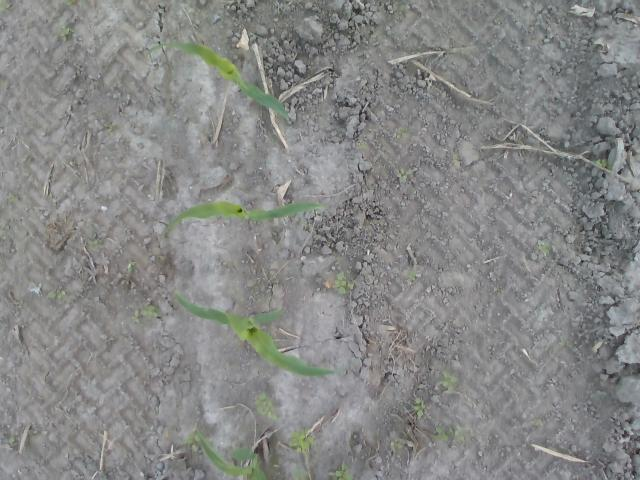Maize: (172, 290, 360, 380), (147, 39, 290, 123), (159, 200, 328, 240), (195, 429, 269, 480)
Weeds: (254, 390, 278, 422), (181, 428, 204, 458), (434, 424, 468, 444), (132, 303, 164, 324), (285, 429, 315, 451), (432, 371, 460, 392), (332, 273, 353, 294), (324, 462, 354, 476), (401, 264, 419, 283), (412, 398, 426, 420), (396, 168, 415, 182), (8, 430, 19, 453), (46, 289, 64, 303), (288, 468, 308, 480), (58, 25, 72, 42), (592, 156, 611, 168), (536, 238, 550, 254), (390, 440, 403, 454), (394, 127, 409, 139), (298, 218, 312, 230), (90, 232, 101, 246), (62, 0, 86, 6), (531, 417, 545, 427), (125, 261, 135, 275), (392, 2, 407, 11), (0, 228, 10, 240), (106, 123, 119, 132), (0, 1, 11, 11), (358, 139, 368, 148), (451, 154, 458, 164), (493, 286, 500, 294)
